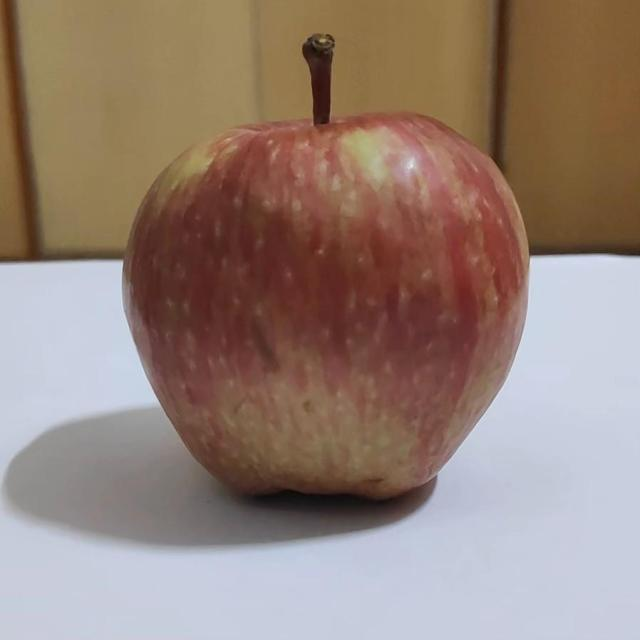Apple: (123, 35, 529, 497)
